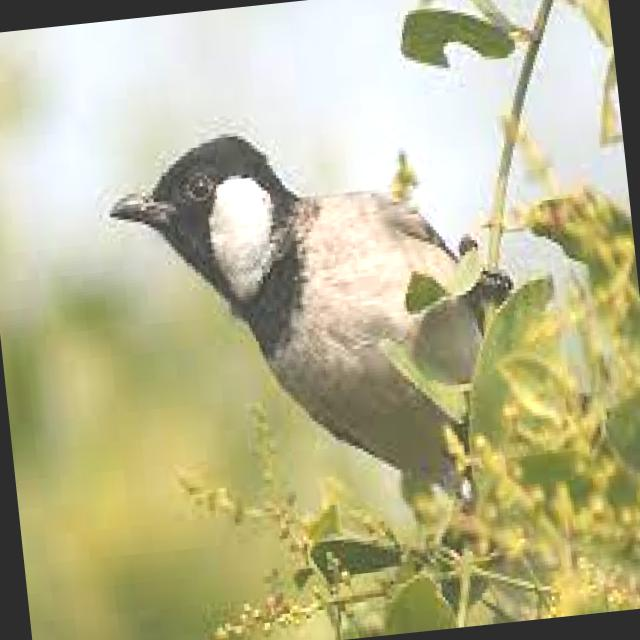bird: (90, 108, 504, 520)
